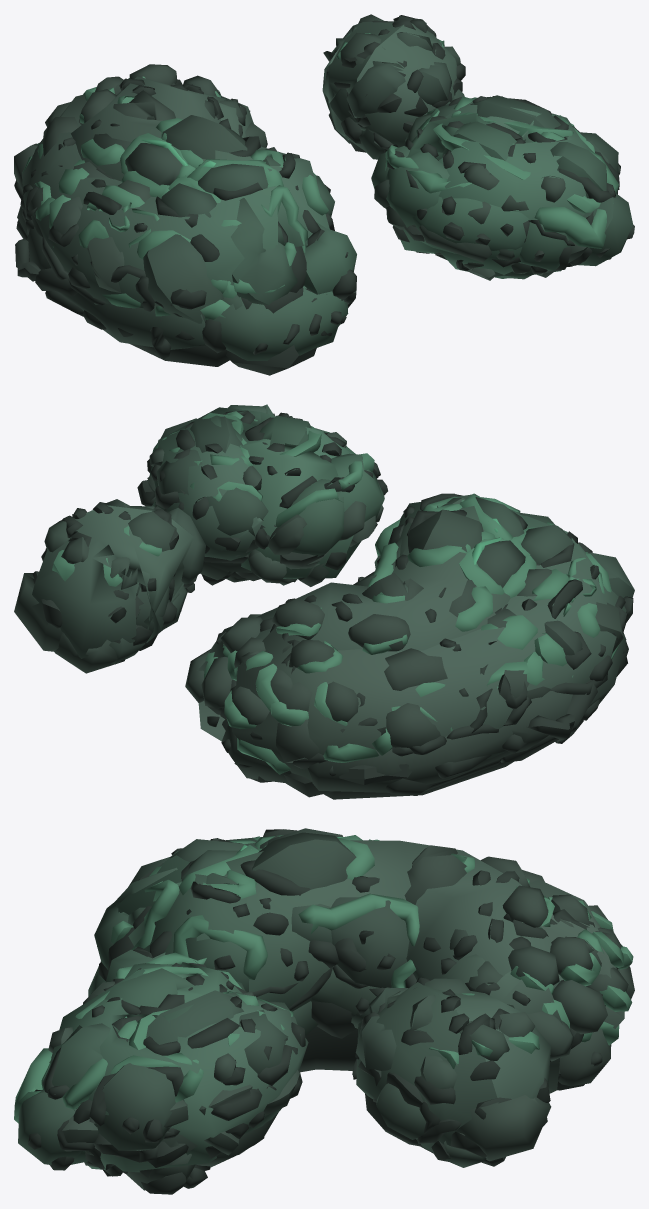
File: coralMassive_9_17_2022.fbx
3 renders of one model, top to bottom at view 1: azimuth 30°, elevation 25°; view 2: azimuth 150°, elevation 25°; view 3: azimuth 270°, elevation 25°, orthographic. The views are drawn at different scales.
Visible parts, largest first — view 1: coralMassive_LOD0; view 2: coralMassive_LOD0; view 3: coralMassive_LOD0.
Boxes of the visible parts, bbox=[...] form: coralMassive_LOD0: bbox=[14, 14, 634, 375]; coralMassive_LOD0: bbox=[14, 404, 634, 799]; coralMassive_LOD0: bbox=[14, 828, 634, 1194].
Size of what is drawn, in the model's own units: 281 by 110 by 257.
